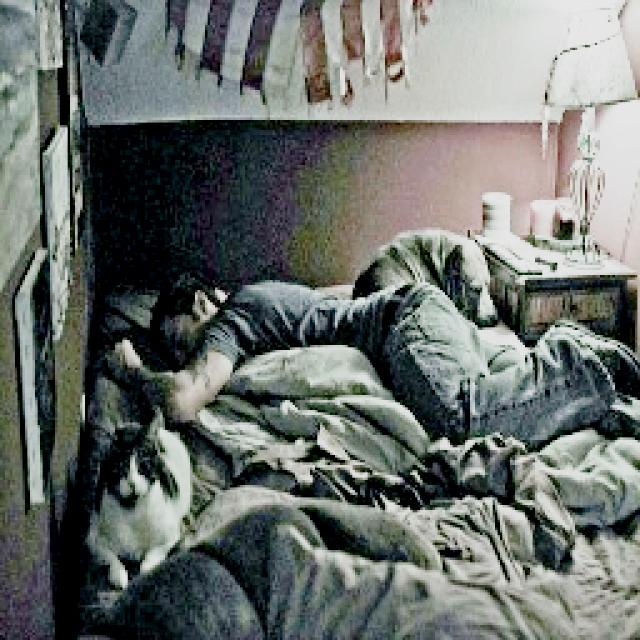cat: (64, 396, 228, 590)
